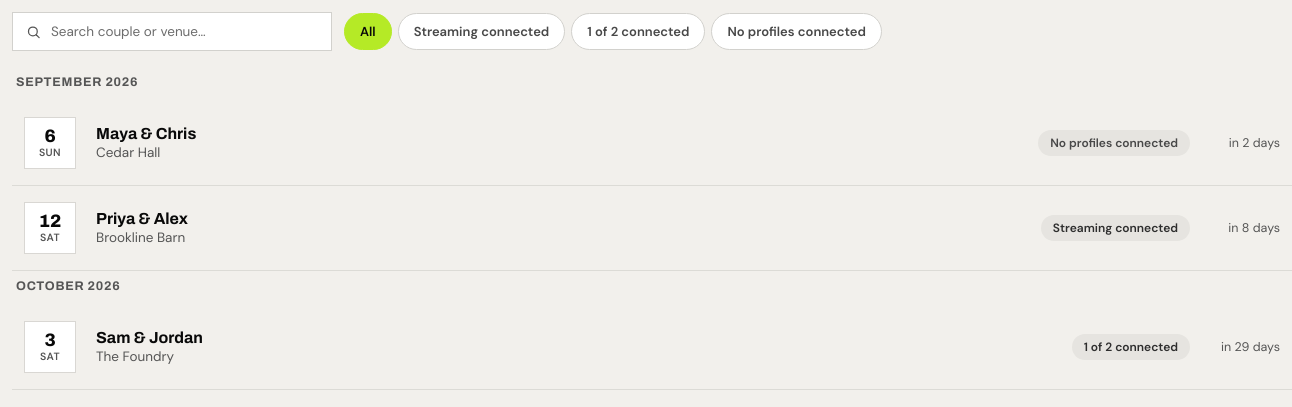
it: UpcomingEventsList › composes the search box and a pill
The width and height of the screenshot is (1292, 407).
Click the button "1 of 2 connected" at (638, 32), box x1=571 y1=13 x2=705 y2=50
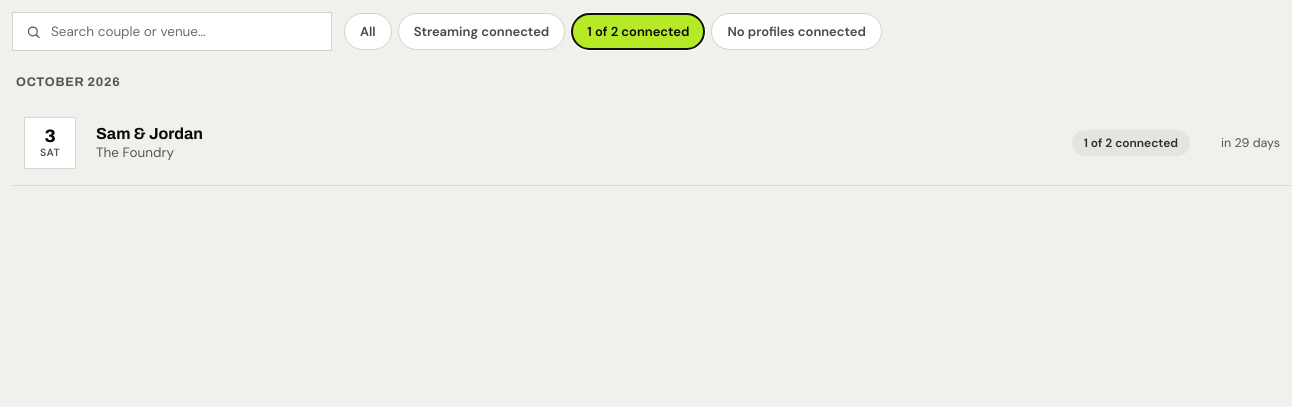
Type "Maya" into the field named "Search upcoming events" at (172, 32), box x1=12 y1=12 x2=332 y2=51
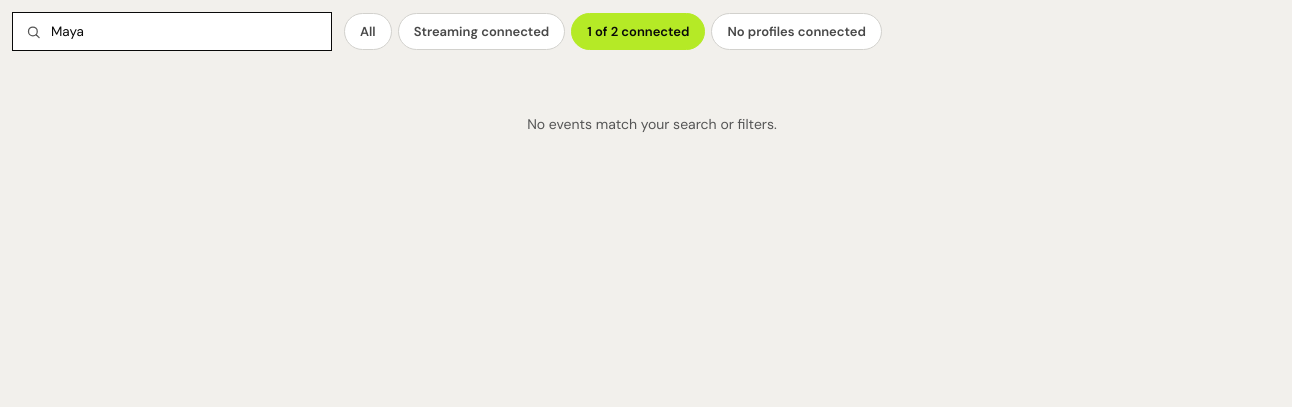
Now the text "No events match your search or filters." is shown, box x1=527 y1=115 x2=777 y2=133
